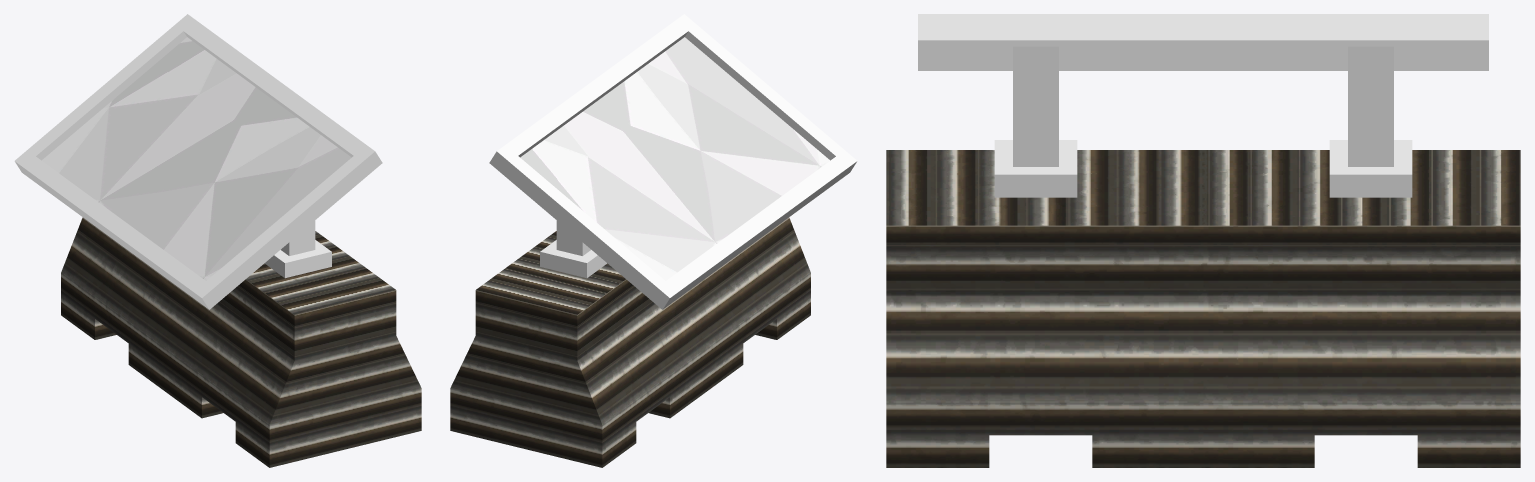
The model's file is Switch1-Off.fbx.
3 views of the same model, side by side, from view 1: azimuth 30°, elevation 25°; view 2: azimuth 150°, elevation 25°; view 3: azimuth 270°, elevation 25° (orthographic). The views are drawn at different scales.
Visible parts, largest first — view 1: detail_solarPanel_107, road_block_108; view 2: detail_solarPanel_107, road_block_108; view 3: road_block_108, detail_solarPanel_107.
Part boxes in pixels (x1,y1,x2,y2): detail_solarPanel_107: [14, 14, 382, 309]; road_block_108: [61, 217, 421, 467]; detail_solarPanel_107: [489, 14, 857, 309]; road_block_108: [450, 217, 810, 467]; road_block_108: [886, 150, 1520, 467]; detail_solarPanel_107: [918, 14, 1488, 197].
Bounding box in the file's own units: 5.79 × 7.43 × 10.
Materials: 3 (2 with a texture image).
